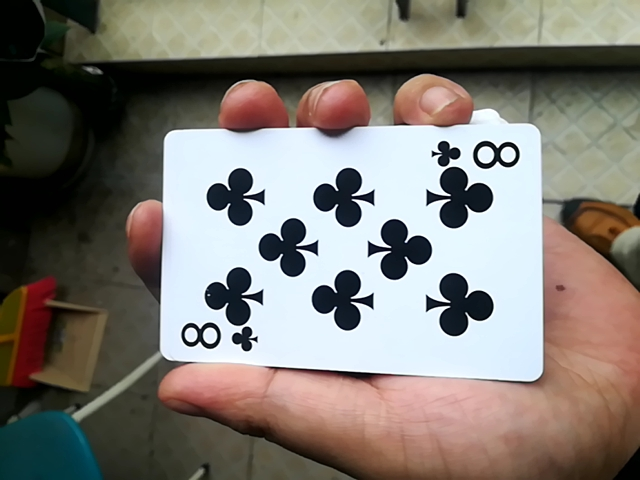mh 8: (138, 121, 542, 388)
